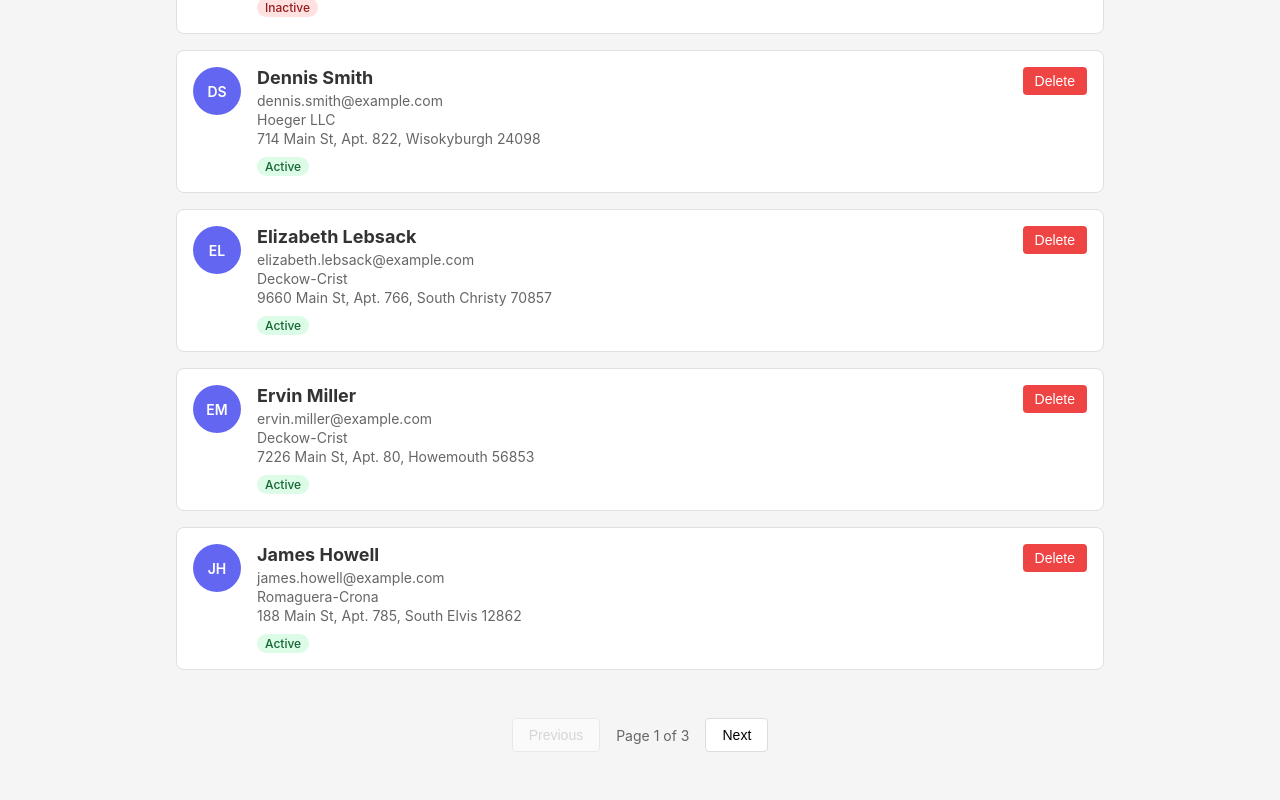
Test: UsersPage › handles pagination with large datasets
The image size is (1280, 800).
(page scrolled)
# Navigate to next page
Click the button with aria-label "next page": click(737, 735) [706,718,768,752]
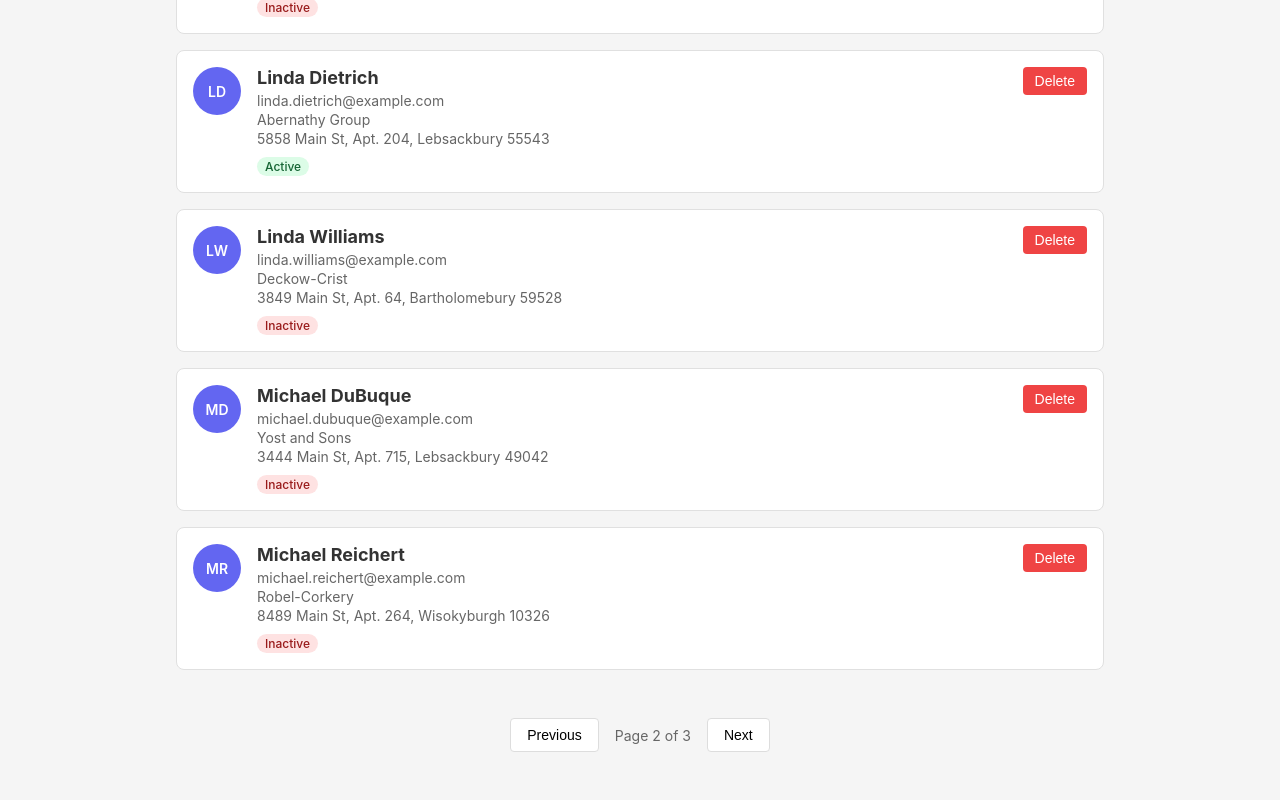
Expected: the text "Page 2 of 3" is shown, [615,726,691,744]
# Navigate to previous page
Click the button with aria-label "previous page": click(555, 735) [510,718,599,752]
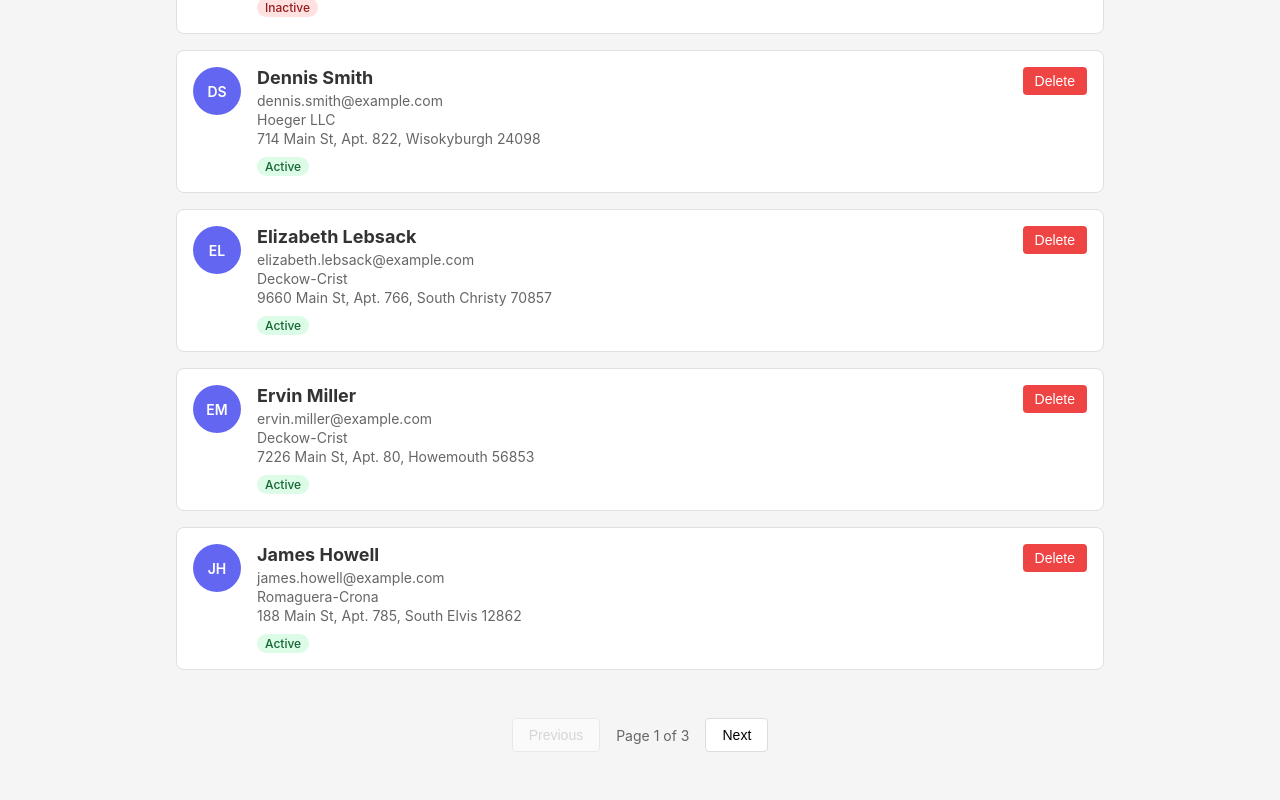
Expected: the text "Page 1 of 3" is shown, [616,726,690,744]
